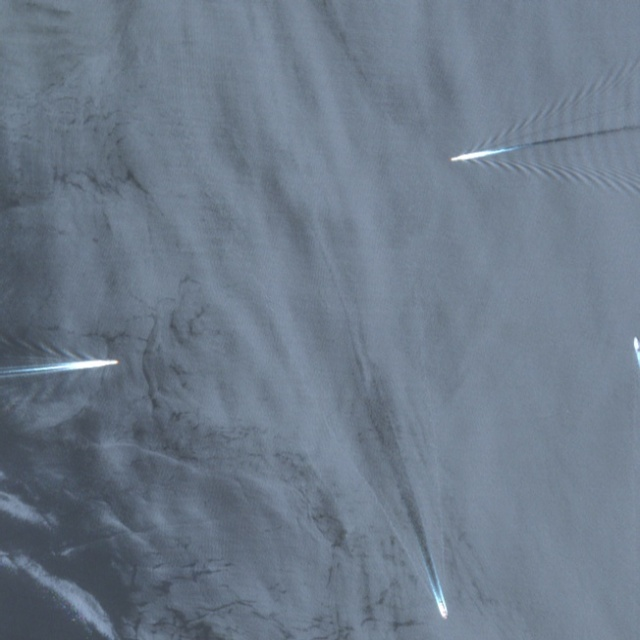wake: (439, 87, 612, 207)
